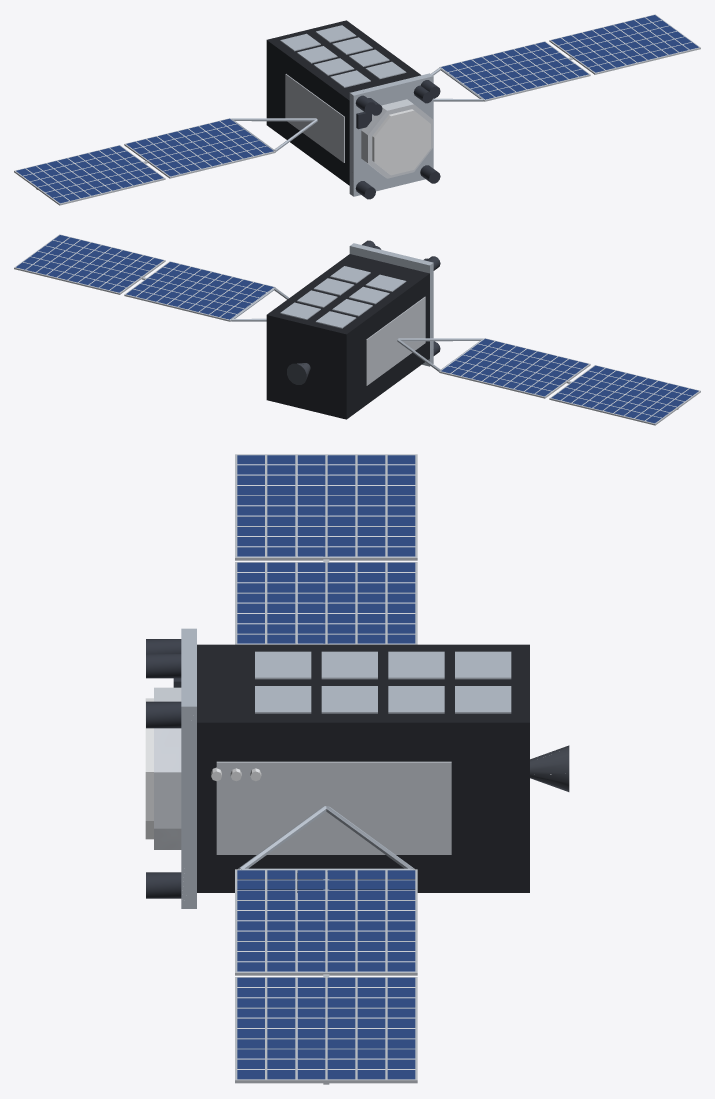
Rendered from qzs-1r.glb.
The picture shows the model from 3 angles, top to bottom: view 1: azimuth 30°, elevation 25°; view 2: azimuth 150°, elevation 25°; view 3: azimuth 270°, elevation 25°; orthographic projection. The views are drawn at different scales.
Visible parts, largest first — view 1: body, solar-panel, foil; view 2: solar-panel, body, foil; view 3: body, solar-panel, foil.
Part boxes in pixels (left/top/right/bottom): body: left=14, top=14, right=700, bottom=205; solar-panel: left=16, top=15, right=698, bottom=203; foil: left=266, top=20, right=420, bottom=185; solar-panel: left=16, top=235, right=698, bottom=423; body: left=14, top=234, right=700, bottom=425; foil: left=266, top=254, right=429, bottom=419; body: left=145, top=454, right=569, bottom=1084; solar-panel: left=237, top=455, right=415, bottom=1079; foil: left=197, top=644, right=529, bottom=892.
Size of the model in its own units: 18.9 by 2.85 by 5.4.
